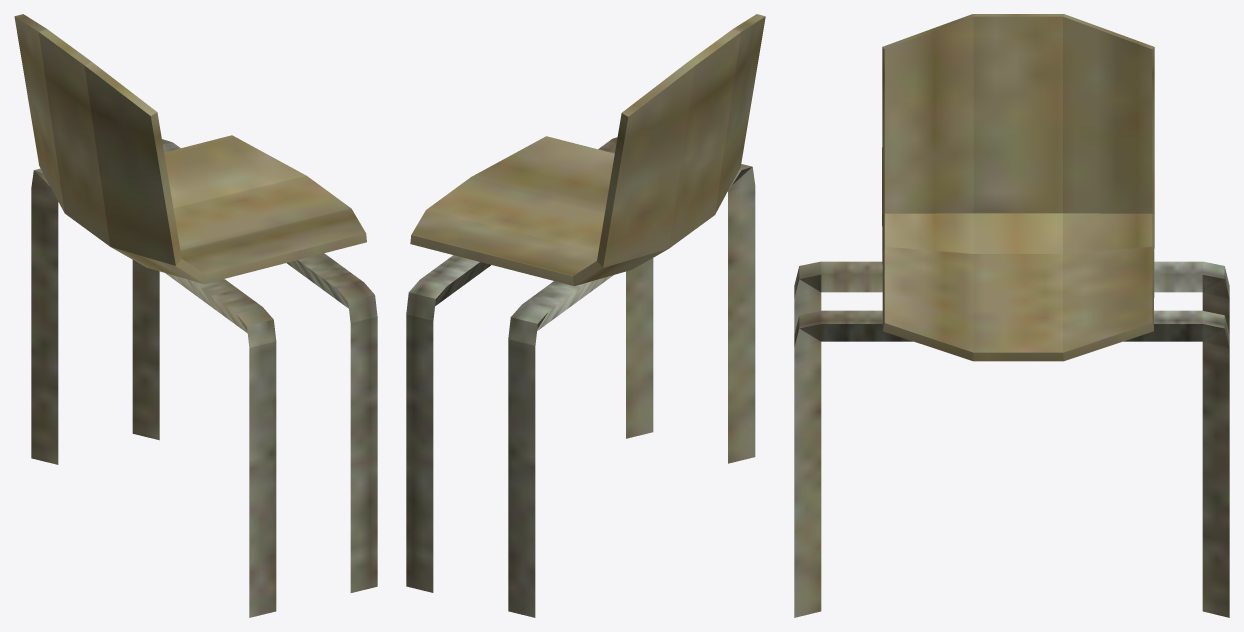
Rendered from Urban_BusstopSingleSeatAlt2_Model.fbx.
3 renders of one model, left to right at view 1: azimuth 30°, elevation 25°; view 2: azimuth 150°, elevation 25°; view 3: azimuth 270°, elevation 25°, orthographic.
Parts seen in each view (by area): view 1: Urban_BusstopSingleSeatAlt2_Mesh; view 2: Urban_BusstopSingleSeatAlt2_Mesh; view 3: Urban_BusstopSingleSeatAlt2_Mesh.
Part boxes in pixels (box(x1,y1,x2,y2)): Urban_BusstopSingleSeatAlt2_Mesh: box(14, 14, 377, 617); Urban_BusstopSingleSeatAlt2_Mesh: box(406, 14, 765, 617); Urban_BusstopSingleSeatAlt2_Mesh: box(794, 14, 1229, 617).
Size of the model in its own units: 0.692 by 1.25 by 0.9766.
